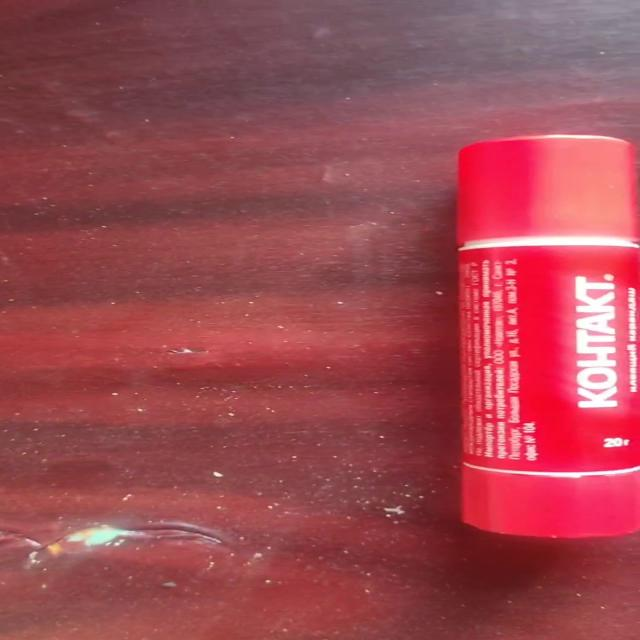glue: (454, 133, 638, 538)
